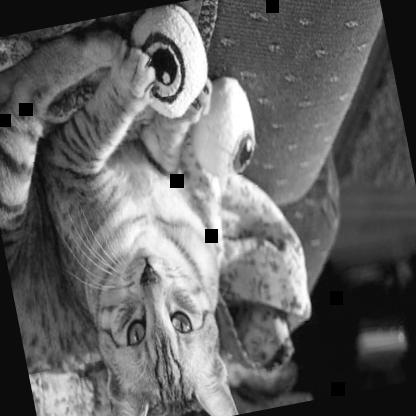cat: (0, 7, 275, 415)
